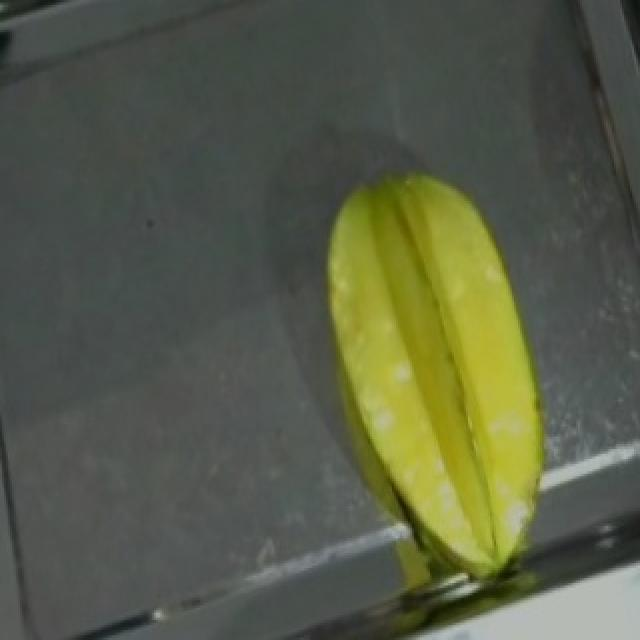fruit: (280, 141, 604, 521)
